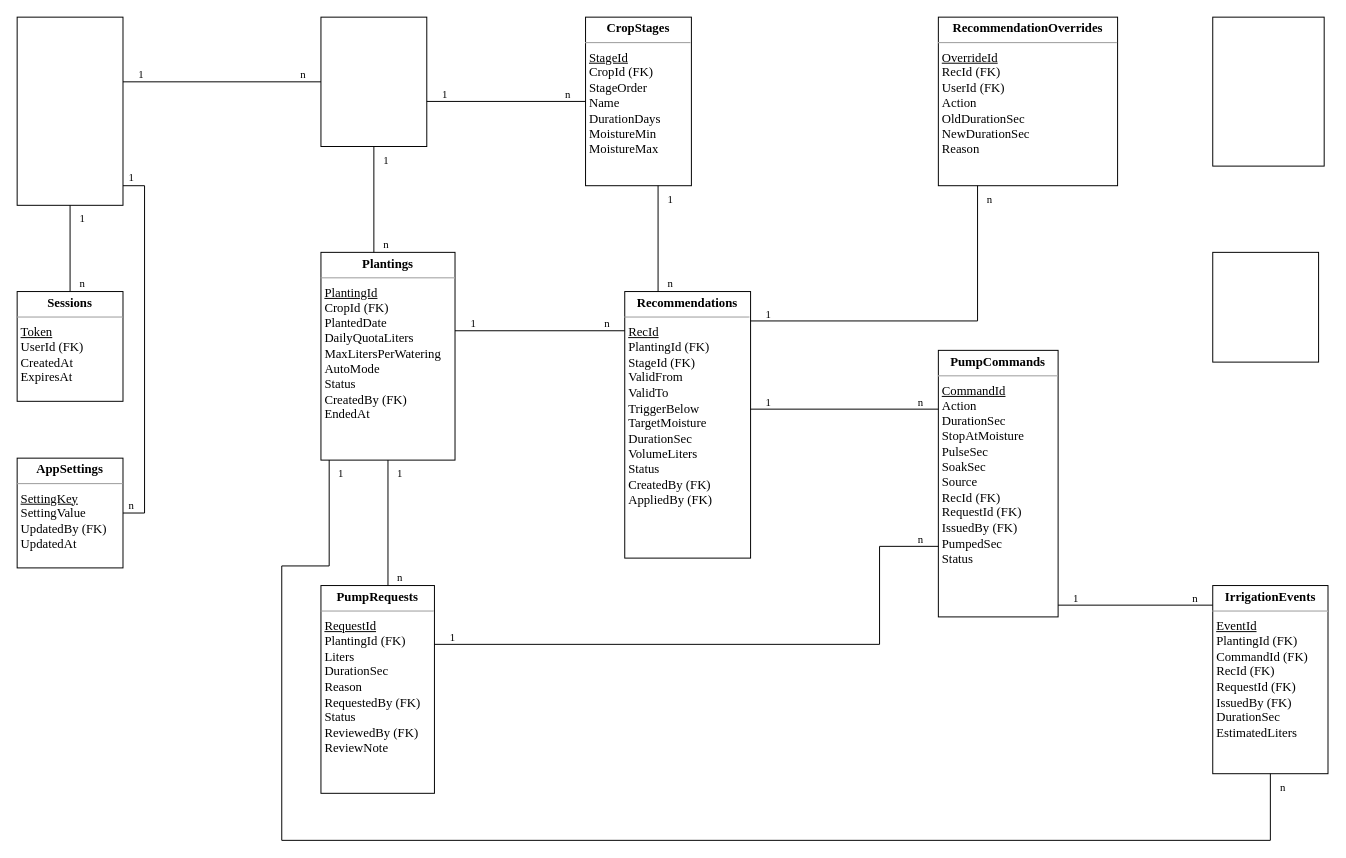
Some shapes in this 1346 by 858 pixel diagram are drawn without their labels. The shapes that lost their labels are listed below. From the top down, each one's centre as x and y in pixels, then its label:
(x=373, y=81): Crops CropId Name Description CreatedBy (FK) CreatedAt
(x=1268, y=91): SensorReadings ReadingId ReadAt SoilRaw SoilMoisture AirTemp AirHumidity
(x=69, y=110): Users UserId Username FullName Salt PasswordHash Role IsActive CreatedAt
(x=1265, y=306): DeviceStatus Id DeviceCode LastSeen PumpIsOn
